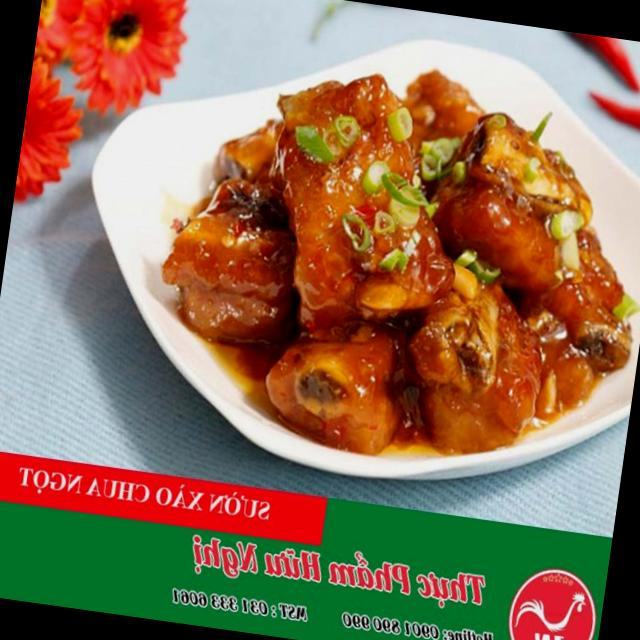suon xao: (163, 70, 637, 454)
